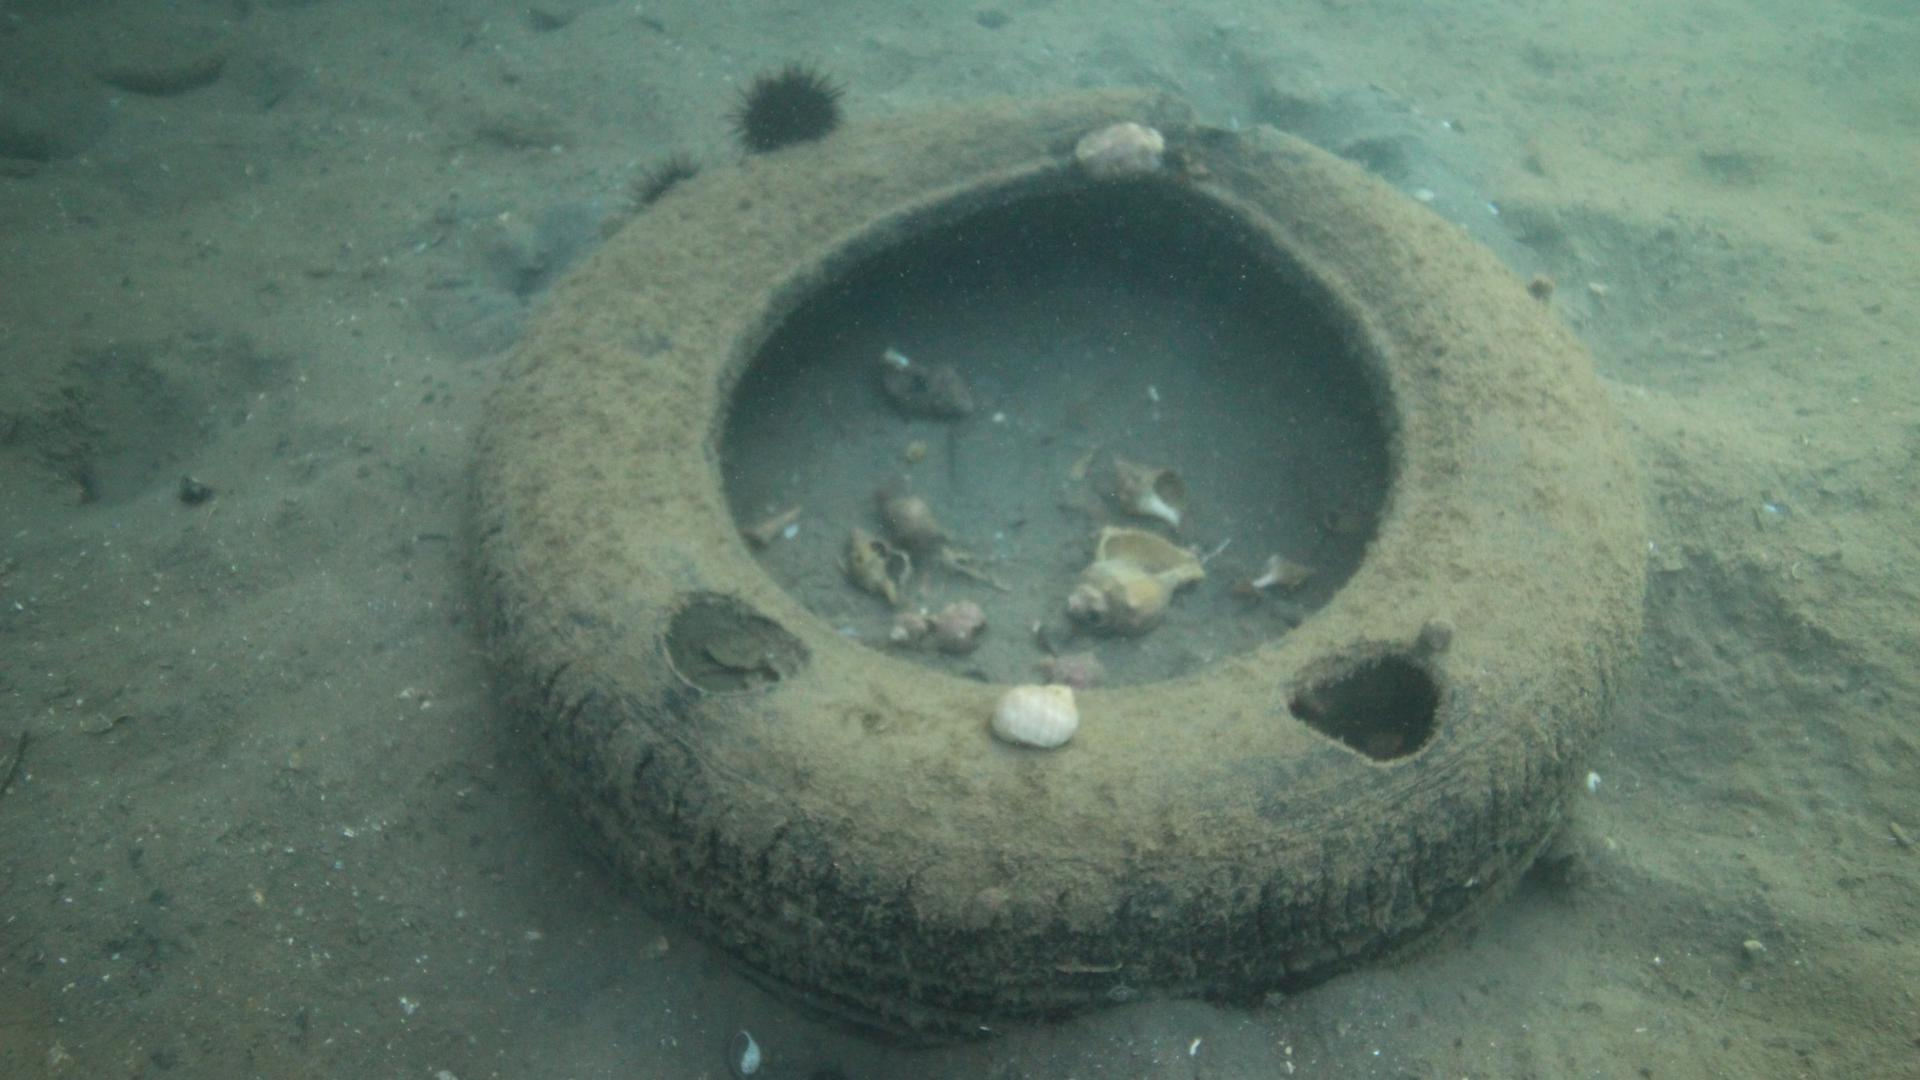tire: (463, 84, 1643, 1051)
